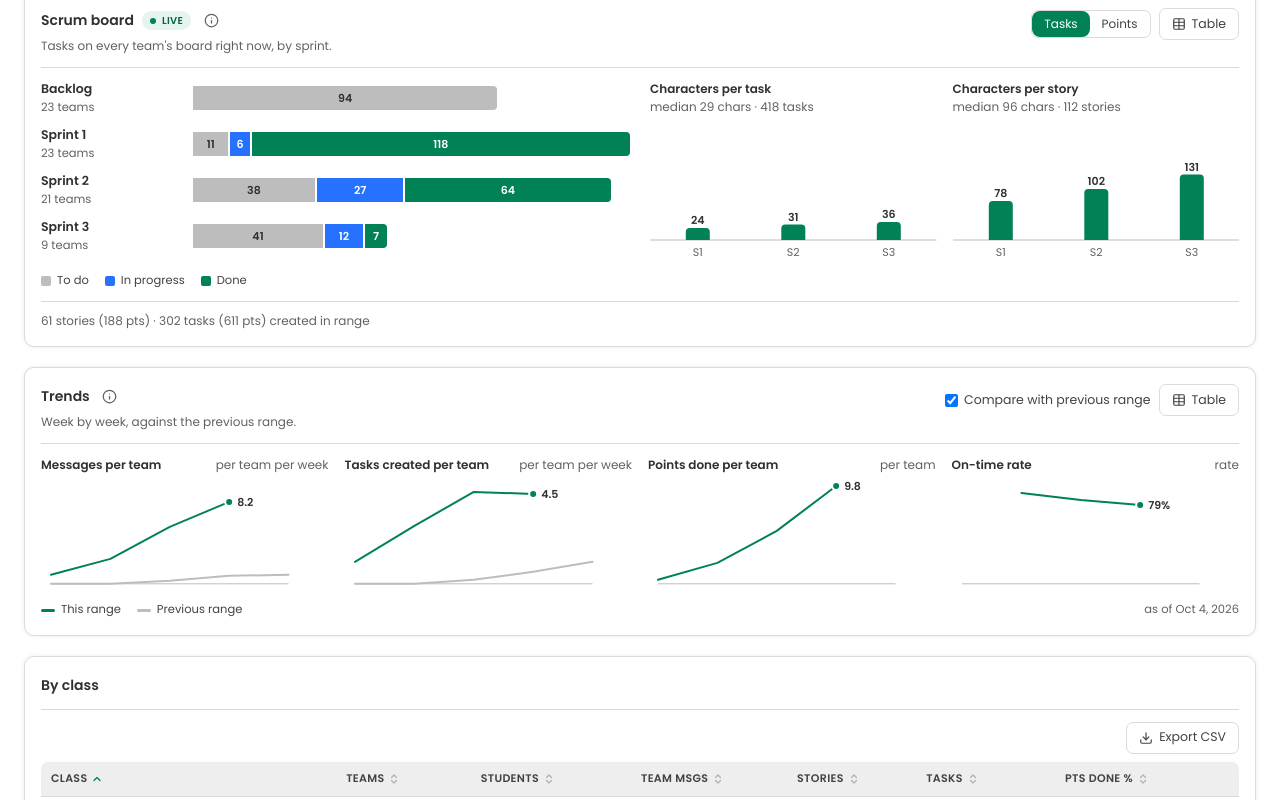
Test: AnalyticsPage › lists the trends week by week as a table, one column per panel
This screenshot has width=1280, height=800.
(page scrolled)
Click the button with aria-label "Trends as a table" at (1199, 400), box [1158,384,1239,416]
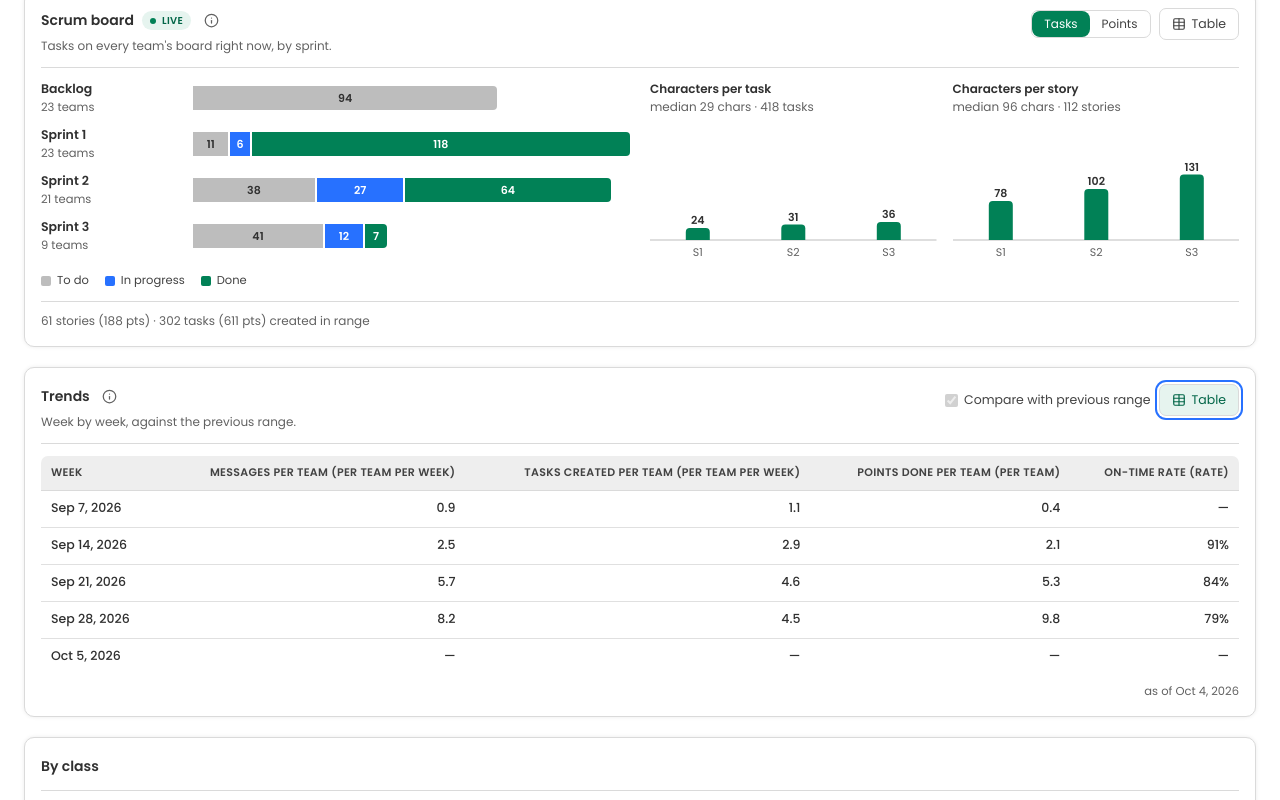
Result: the cells read "2.5", "2.9", "2.1", "91%", in this order at [156,528,465,565]; [465,528,810,565]; [810,528,1070,565]; [1070,528,1239,565]
Result: the checkbox labelled "Compare with previous range" is disabled at [945,394,958,407]
